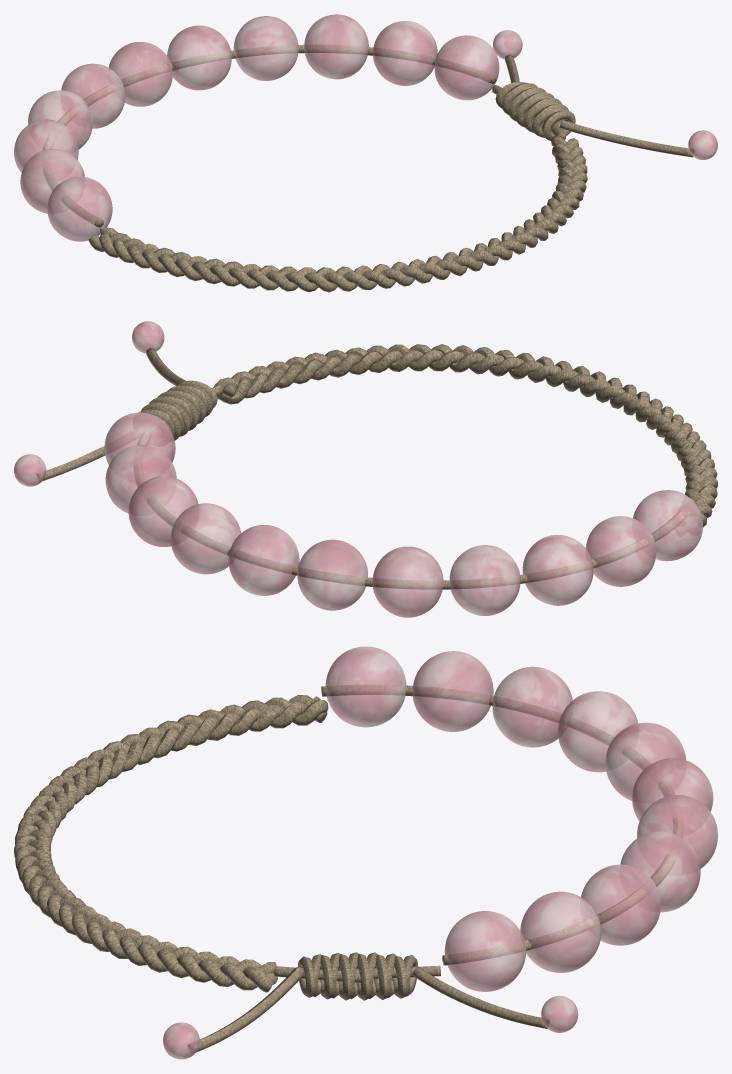
File: kwarc.glb
3 views of the same model, one above another, from view 1: azimuth 30°, elevation 25°; view 2: azimuth 150°, elevation 25°; view 3: azimuth 270°, elevation 25° (orthographic). The views are drawn at different scales.
Parts seen in each view (by area): view 1: warkocz.006, warkocz.008, warkocz.007, nic.023, bead_round_2, bead_round_0.001, bead_round_1, bead_round_0, bead_round_1.001, bead_round_1.003, bead_round_2.001, bead_round_0.002 (+7 smaller); view 2: nic.023, warkocz.007, warkocz.006, warkocz.008, bead_round_0.002, bead_round_1.002, bead_round_2.001, bead_round_2.002, bead_round_1.001, bead_round_0.003, bead_round_0.001, bead_round_1.003 (+7 smaller); view 3: warkocz.006, warkocz.007, warkocz.008, nic.023, bead_round_1.003, bead_round_0, bead_round_0.003, bead_round_1, bead_round_2.002, bead_round_2, bead_round_1.002, bead_round_0.001 (+7 smaller).
Part boxes in pixels (x1,y1,x2,y2): warkocz.006: (88,136,587,292); warkocz.008: (99,138,587,292); warkocz.007: (100,143,586,291); nic.023: (43,44,496,227); bead_round_2: (304,14,368,79); bead_round_0.001: (233,16,298,80); bead_round_1: (373,21,437,85); bead_round_0: (434,35,499,100); bead_round_1.001: (167,25,231,90); bead_round_1.003: (47,176,112,241); bead_round_2.001: (108,42,172,106); bead_round_0.002: (61,63,125,128); nic.023: (134,431,686,589); warkocz.007: (218,344,717,518); warkocz.006: (223,344,717,508); warkocz.008: (214,344,717,527); bead_round_0.002: (372,546,443,617); bead_round_1.002: (449,545,520,615); bead_round_2.001: (297,539,367,610); bead_round_2.002: (522,535,593,605); bead_round_1.001: (228,525,299,595); bead_round_0.003: (585,516,656,586); bead_round_0.001: (170,503,240,574); bead_round_1.003: (633,490,702,561); warkocz.006: (15,696,320,990); warkocz.007: (14,697,328,986); warkocz.008: (15,695,327,992); nic.023: (321,685,682,965); bead_round_1.003: (325,646,406,727); bead_round_0: (444,911,525,991); bead_round_0.003: (412,651,493,731); bead_round_1: (520,891,601,972); bead_round_2.002: (492,666,572,747); bead_round_2: (581,864,660,945); bead_round_1.002: (558,691,637,772); bead_round_0.001: (620,831,700,912).
Size of the model in its own units: 7.33 by 0.702 by 6.08.
Materials: 4 (4 with a texture image).
